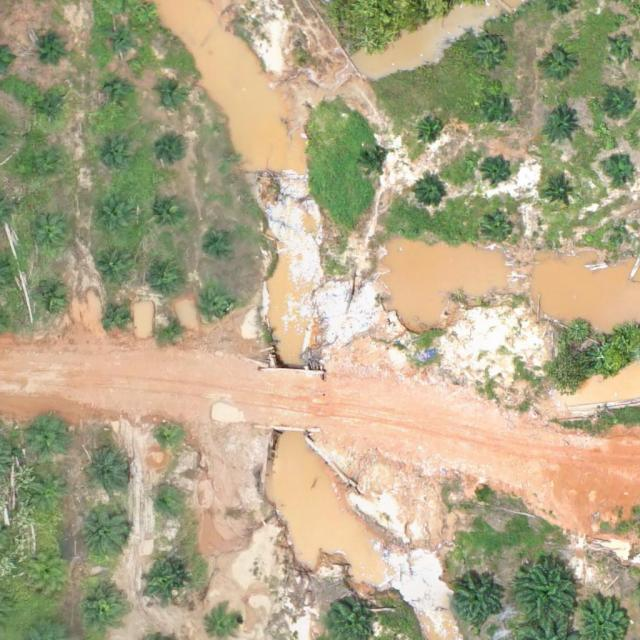Healthy: (515, 559, 578, 622), (450, 575, 505, 630), (84, 508, 131, 555)
Small: (84, 447, 131, 495), (141, 560, 188, 608), (79, 582, 126, 629), (94, 197, 134, 237), (148, 257, 188, 297), (23, 152, 63, 191), (95, 137, 135, 176), (29, 416, 69, 455), (33, 279, 72, 319), (542, 109, 581, 149), (33, 476, 72, 515), (30, 218, 69, 257), (149, 192, 188, 231), (95, 248, 134, 287), (103, 301, 134, 333), (157, 314, 188, 346), (603, 151, 634, 183), (606, 89, 637, 121), (542, 50, 573, 82), (476, 41, 507, 73), (483, 92, 514, 124), (483, 154, 514, 186), (545, 178, 576, 210), (159, 136, 190, 167), (38, 31, 69, 62), (105, 28, 136, 59), (103, 81, 134, 112), (156, 80, 187, 111), (415, 179, 446, 210), (201, 293, 232, 324), (208, 228, 239, 259), (153, 423, 184, 454), (150, 490, 181, 521), (484, 217, 515, 248), (416, 114, 447, 145), (360, 149, 391, 180), (36, 96, 67, 127), (609, 37, 632, 61), (619, 226, 635, 242)
Yellow: (27, 555, 66, 594)
